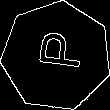P_W: (29, 35, 84, 78)
